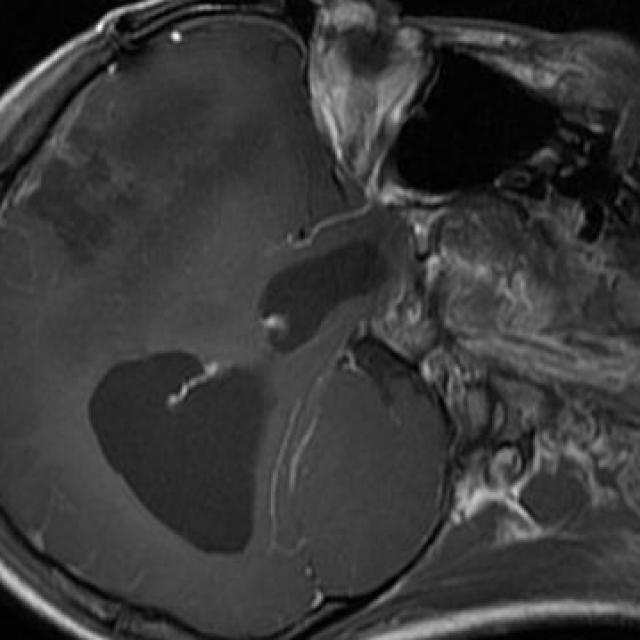glioma: (89, 242, 383, 554)
